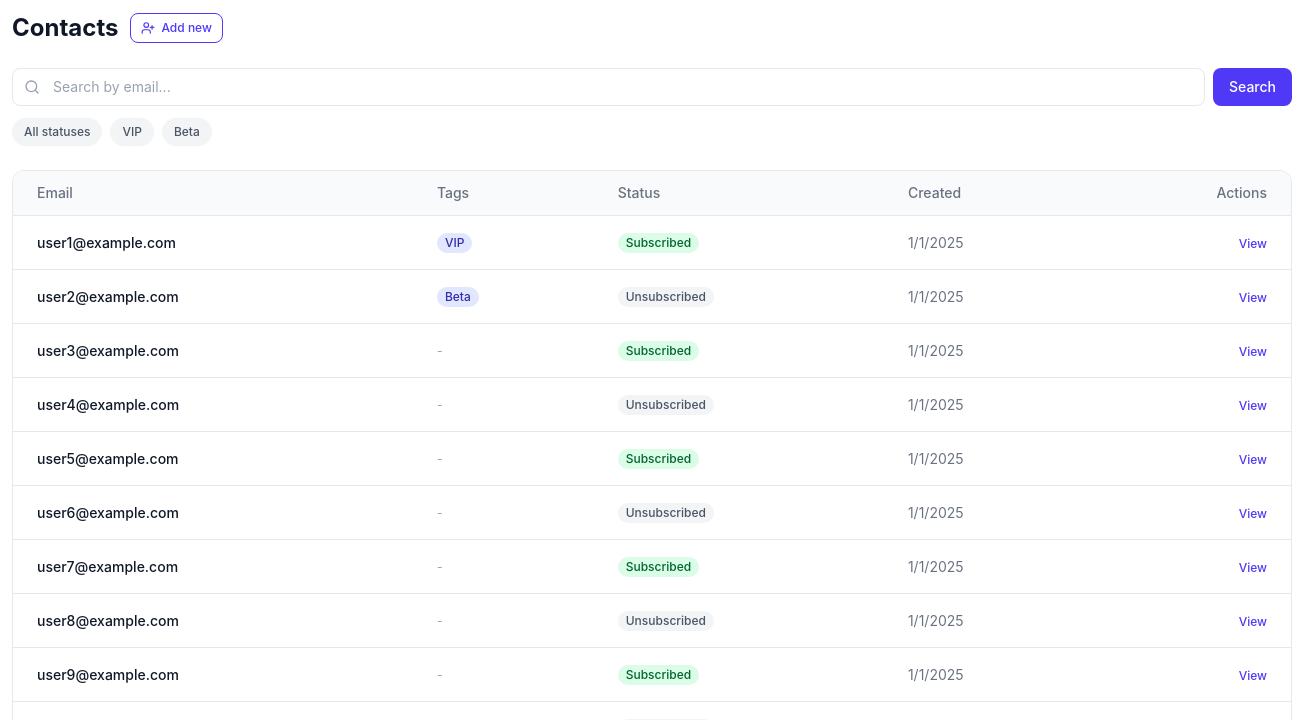
Scenario: Contacts › toggles the subscribed filter
Check: the text "user1@example.com" is shown, box [13, 216, 413, 270]
Click the button "All statuses".
click(57, 132)  # box [12, 118, 102, 146]
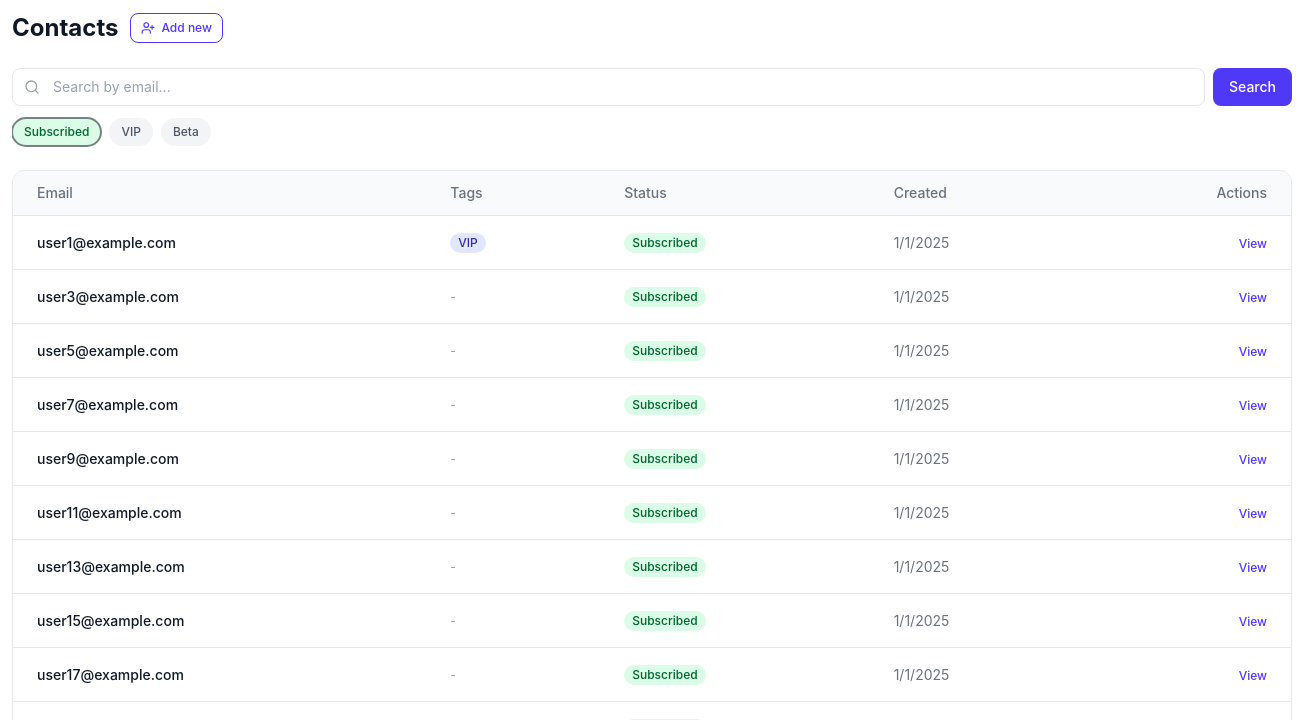
Check: the button "Subscribed" is shown, box [12, 118, 101, 146]
